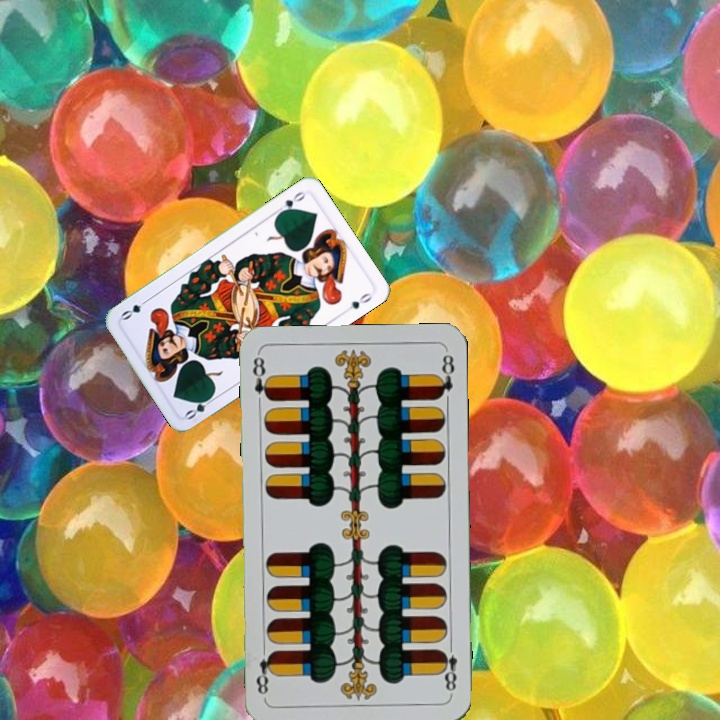E8: (436, 638, 460, 697), (248, 351, 274, 403)
GO: (181, 391, 218, 422), (272, 187, 309, 217)
